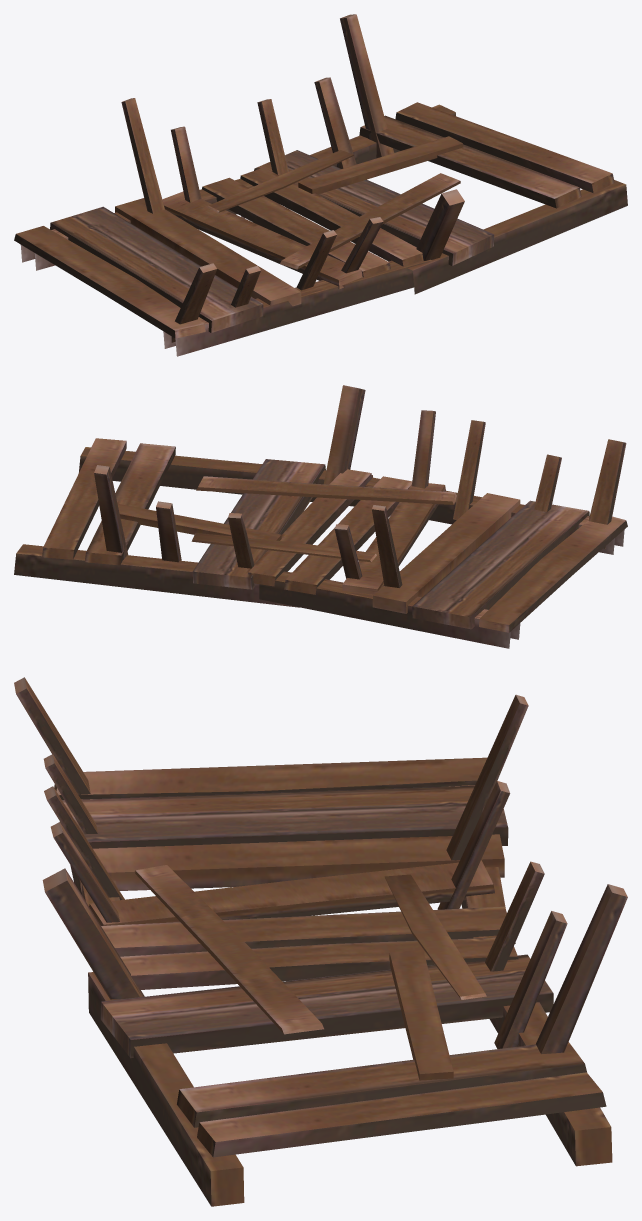
File: qiao.FBX
3 renders of one model, top to bottom at view 1: azimuth 30°, elevation 25°; view 2: azimuth 150°, elevation 25°; view 3: azimuth 270°, elevation 25°, orthographic. The views are drawn at different scales.
Visible parts, largest first — view 1: M_a1; view 2: M_a1; view 3: M_a1.
Part boxes in pixels (x1=…): M_a1: x1=14, y1=14, x2=627, y2=356; M_a1: x1=14, y1=385, x2=627, y2=648; M_a1: x1=14, y1=677, x2=627, y2=1206.
Bounding box in the file's own units: 302 × 73.1 × 197.
